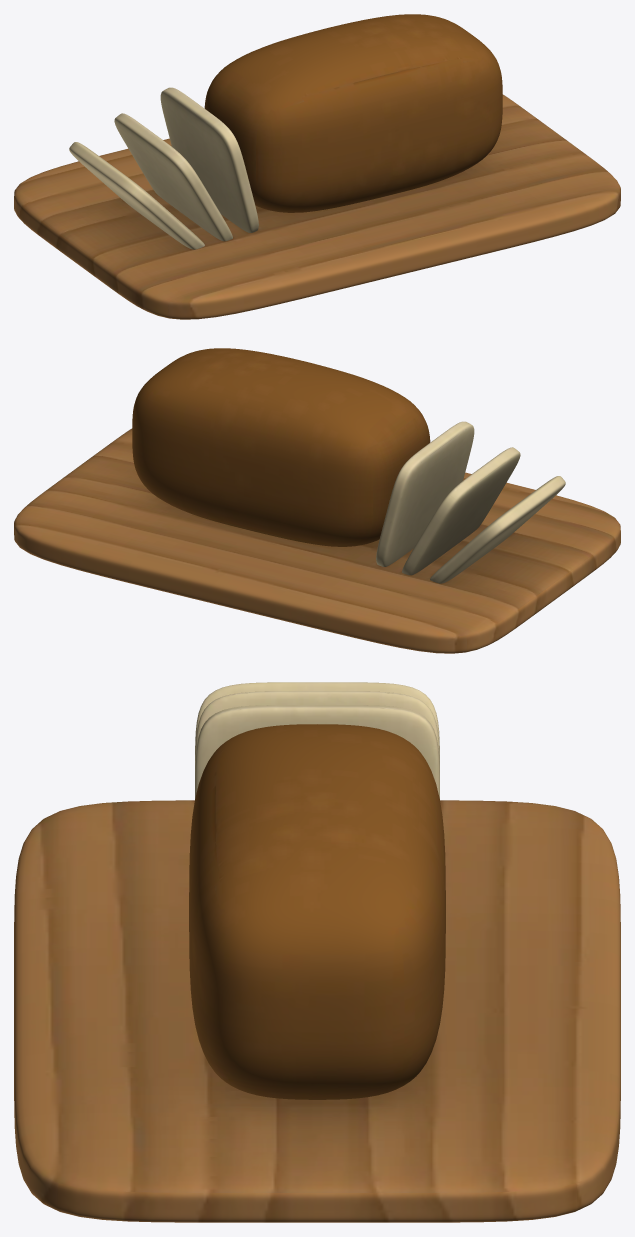
Rendered from sliced-loaf.glb.
The picture shows the model from 3 angles, top to bottom: view 1: azimuth 30°, elevation 25°; view 2: azimuth 150°, elevation 25°; view 3: azimuth 270°, elevation 25°; orthographic projection. The views are drawn at different scales.
Parts seen in each view (by area): view 1: wood_x, bread_crust, bread_crumb; view 2: wood_x, bread_crust, bread_crumb; view 3: wood_x, bread_crust, bread_crumb.
Boxes of the visible parts, x1,y1,x2,y2 form: wood_x: (14,94,620,319); bread_crust: (204,14,502,212); bread_crumb: (69,87,258,249); wood_x: (14,428,620,653); bread_crust: (132,348,430,546); bread_crumb: (376,421,565,583); wood_x: (14,800,620,1222); bread_crust: (189,724,445,1099); bread_crumb: (195,682,439,798).
Bounding box in the file's own units: 0.4 × 0.1337 × 0.26.
3 materials, 3 textured.
